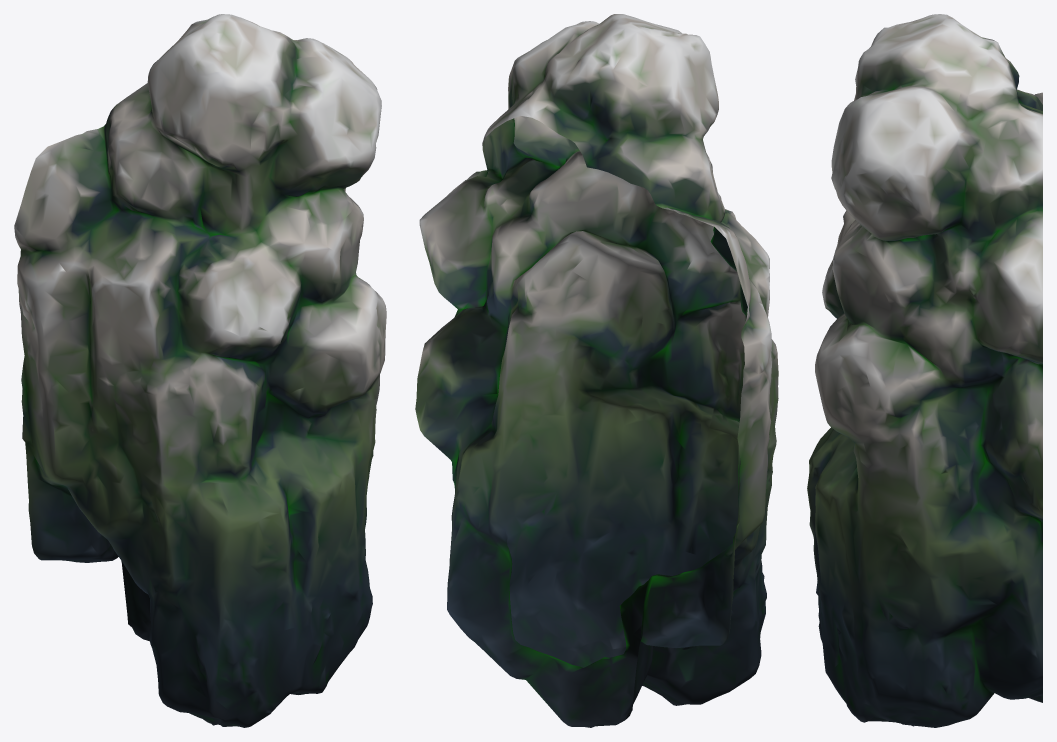
Rendered from M_Cliff_Rock_T7.fbx.
The picture shows the model from 3 angles, left to right: view 1: azimuth 30°, elevation 25°; view 2: azimuth 150°, elevation 25°; view 3: azimuth 270°, elevation 25°; orthographic projection. The views are drawn at different scales.
Parts seen in each view (by area): view 1: M_Cliff_Rock_T7; view 2: M_Cliff_Rock_T7; view 3: M_Cliff_Rock_T7.
Part boxes in pixels (x1=…): M_Cliff_Rock_T7: x1=14, y1=14, x2=386, y2=727; M_Cliff_Rock_T7: x1=415, y1=14, x2=778, y2=727; M_Cliff_Rock_T7: x1=807, y1=14, x2=1042, y2=727.
Bounding box in the file's own units: 11.65 × 22.85 × 7.03.
